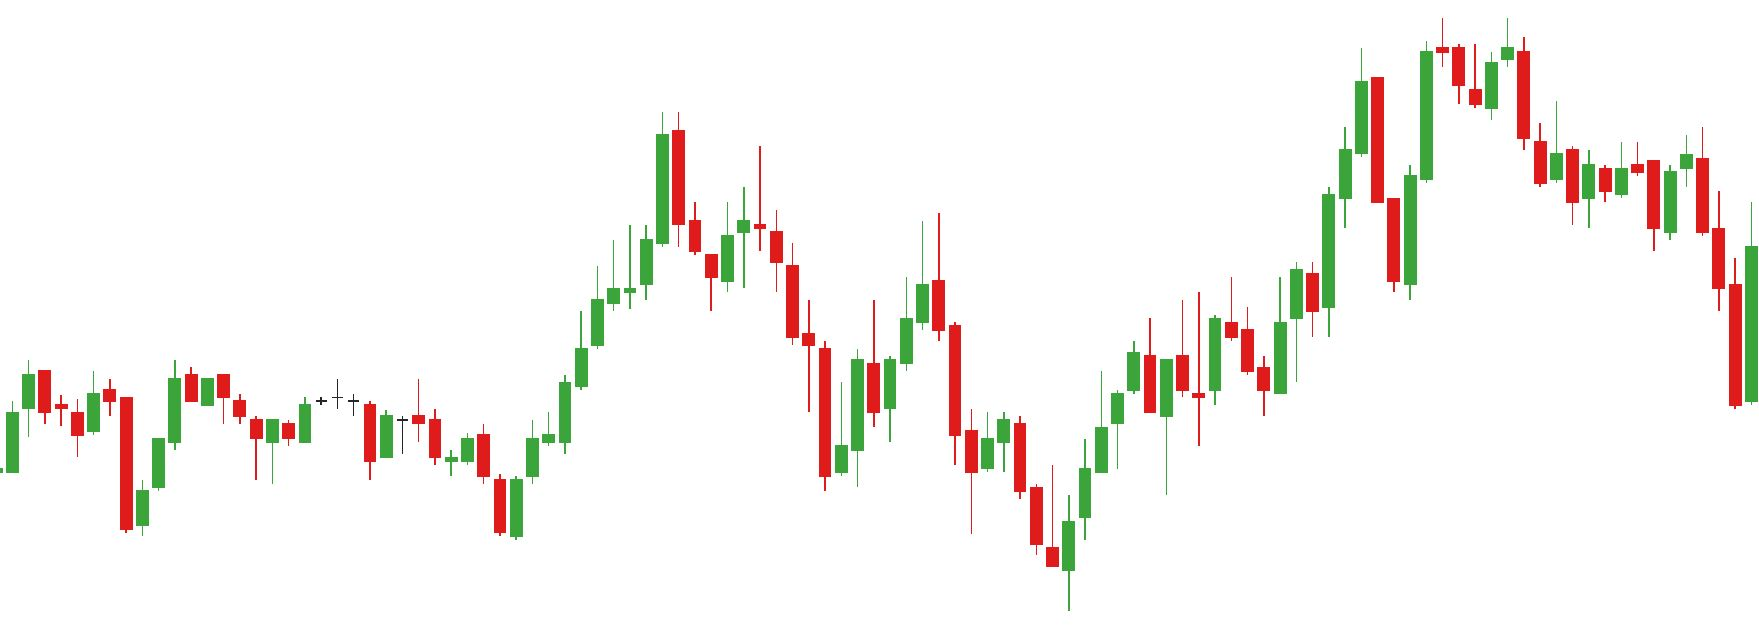buy: (816, 369, 1000, 551), (360, 414, 541, 551)
sell: (1355, 17, 1468, 213)
